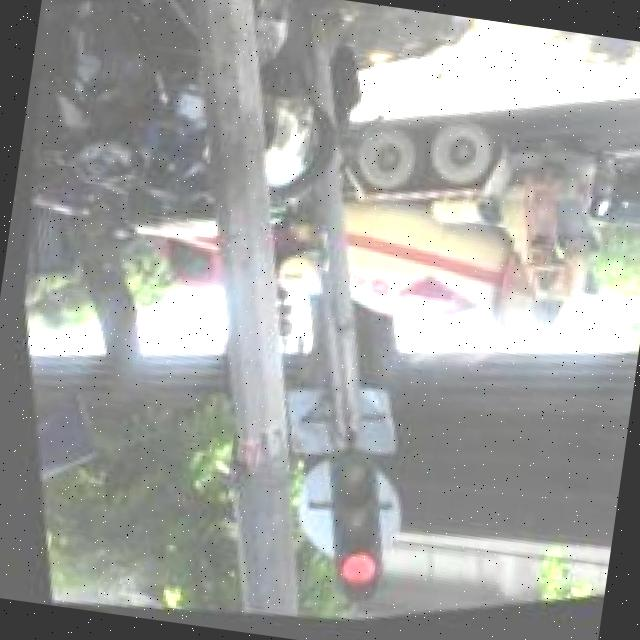red_light: (279, 428, 414, 629)
